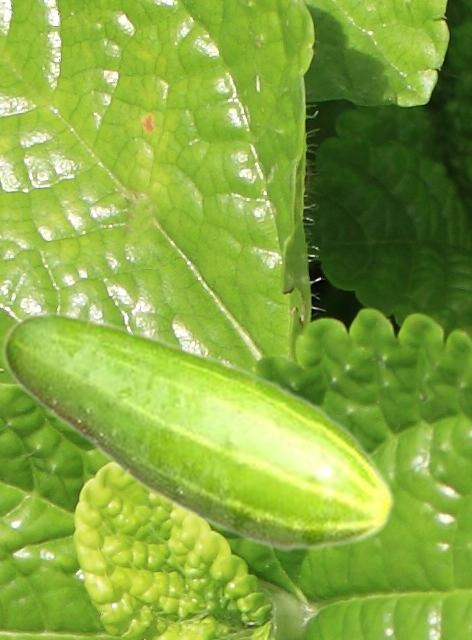cucumber: (1, 310, 395, 553)
